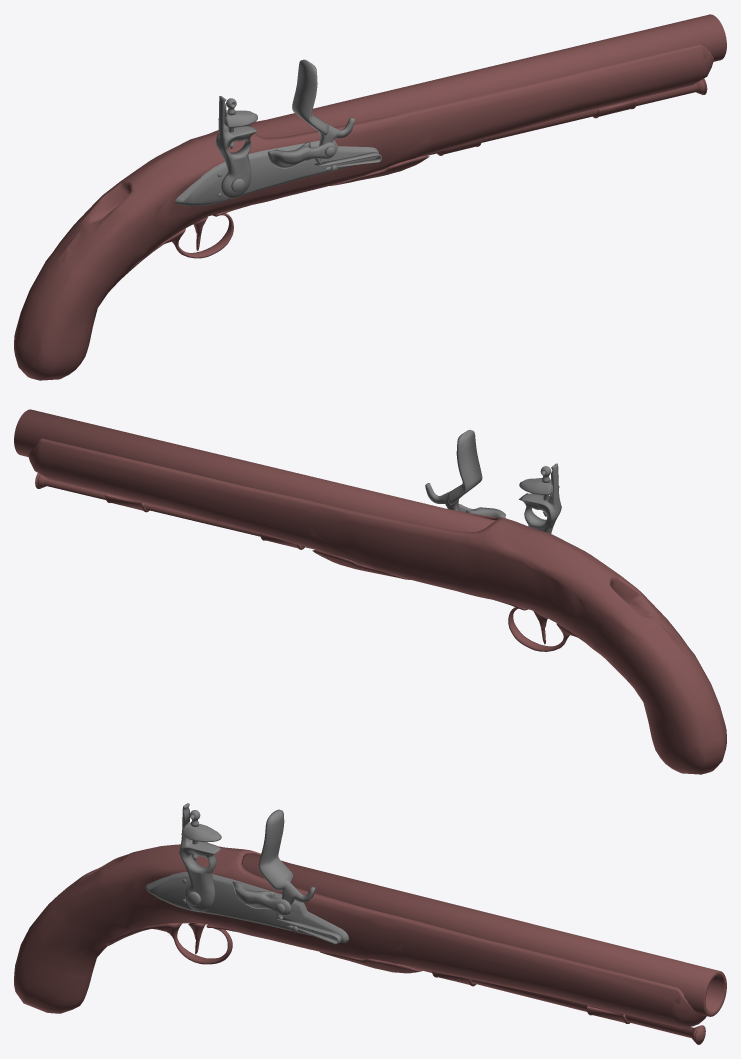
File: Silex_gun.fbx
The picture shows the model from 3 angles, top to bottom: view 1: azimuth 30°, elevation 25°; view 2: azimuth 150°, elevation 25°; view 3: azimuth 330°, elevation 25°; orthographic projection.
Visible parts, largest first — view 1: Group473, Object001; view 2: Group473, Object001; view 3: Group473, Object001.
Part boxes in pixels (x1=…): Group473: x1=14, y1=14, x2=726, y2=380; Object001: x1=175, y1=59, x2=381, y2=205; Group473: x1=14, y1=409, x2=726, y2=774; Object001: x1=425, y1=430, x2=561, y2=533; Group473: x1=14, y1=844, x2=726, y2=1044; Object001: x1=145, y1=803, x2=348, y2=944.
Bounding box in the file's own units: 29.18 × 10.73 × 3.05.
